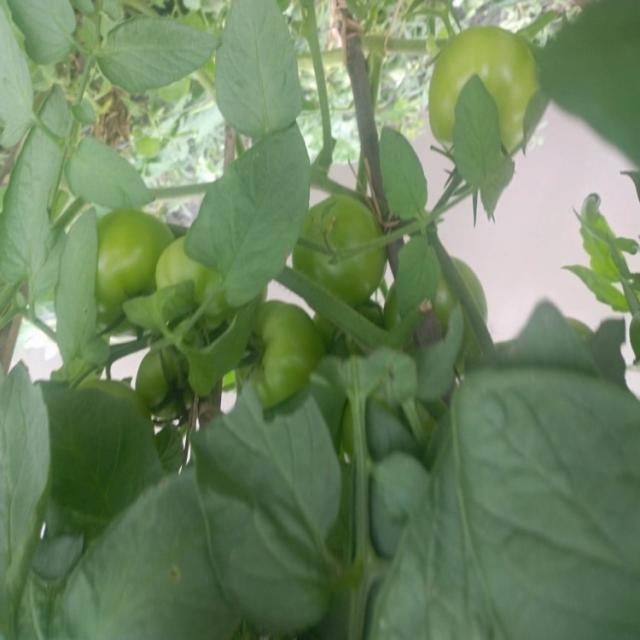tomato: (418, 21, 546, 156), (288, 183, 409, 313), (247, 296, 325, 404), (87, 201, 157, 302), (122, 343, 204, 423), (150, 223, 225, 304)
